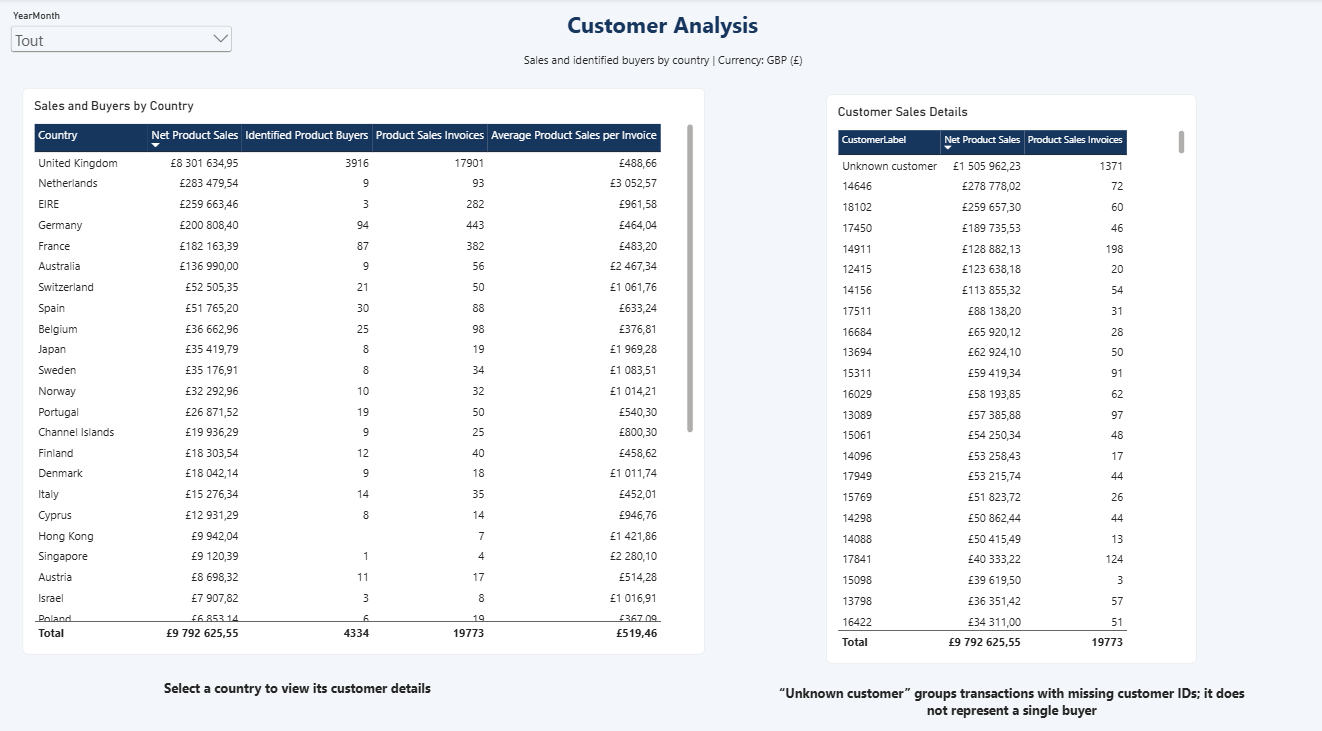

The page's visual inventory and layout, read from the dashboard file:
{"tool":"powerbi","page":{"name":"Customer Analysis","canvas":[1920,1080],"ordinal":5},"visuals":[{"type":"tableEx","title":"Sales and Buyers by Country","fields":{"Values":["DimCountry.Country","FactTransactions.Net Product Sales","FactTransactions.Identified Product Buyers","FactTransactions.Product Sales Invoices","FactTransactions.Average Product Sales per Invoice"]},"box":[32,130,988,820],"z":0},{"type":"tableEx","title":"Customer Sales Details","fields":{"Values":["DimCustomer.CustomerLabel","FactTransactions.Net Product Sales","FactTransactions.Product Sales Invoices"]},"box":[1196,140,536,824],"z":1000},{"type":"textbox","box":[52,986,756,44],"z":2000},{"type":"slicer","fields":{"Values":["DimDate.YearMonth"]},"box":[10,16,330,124],"z":3000},{"type":"textbox","box":[378,16,1162,62],"z":4000},{"type":"textbox","box":[474,78,972,48],"z":5000},{"type":"textbox","box":[1114,994,700,74],"z":6000}]}

Visuals, with their boxes in screenshot pixels (x1, y1, x2, y2), scaled from the page's 1920x1080 canvas onto the 1322x731 screenshot:
"Sales and Buyers by Country" tableEx: 22/88/702/643
"Customer Sales Details" tableEx: 823/95/1193/652
textbox: 36/667/556/697
slicer - DimDate.YearMonth: 7/11/234/95
textbox: 260/11/1060/53
textbox: 326/53/996/85
textbox: 767/673/1249/723
